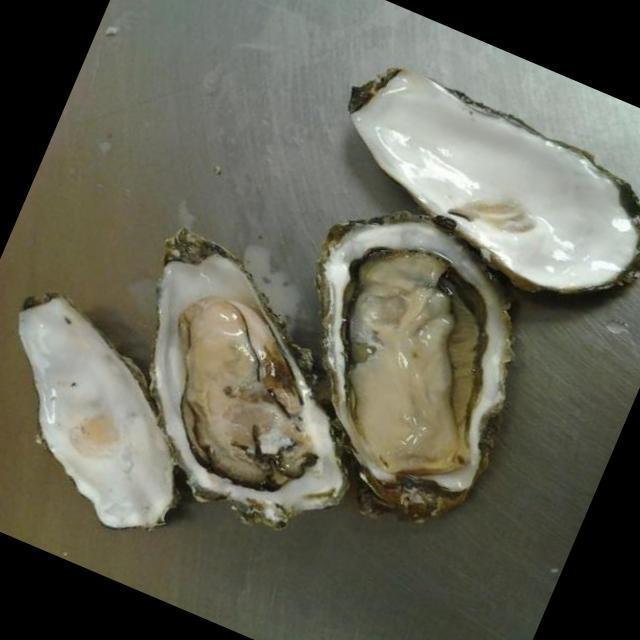Oyster-Open: (219, 178, 568, 561), (72, 220, 416, 558), (298, 45, 640, 327), (0, 276, 241, 553)
